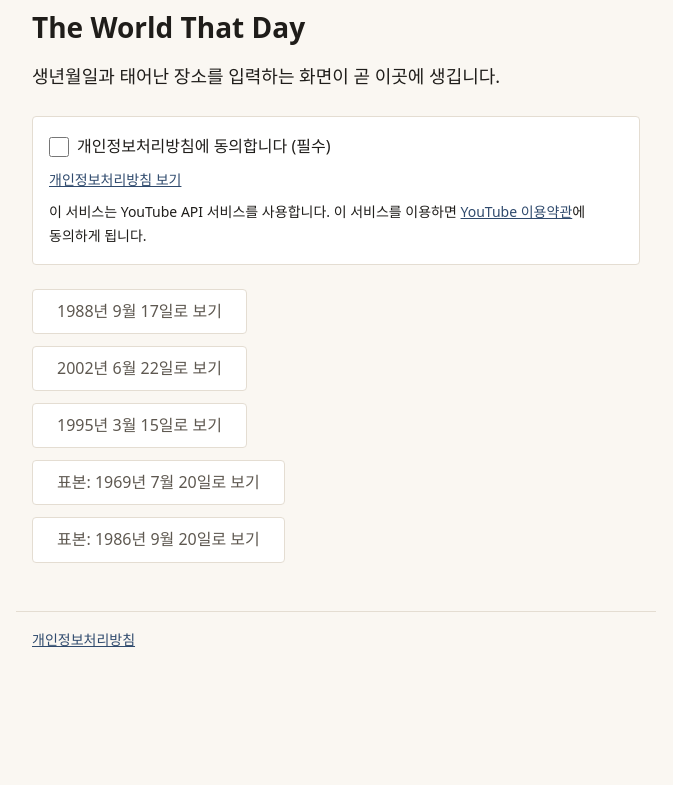
Test: demo 2002-06-22 (데모 표 2행) › today’s server shape: sentence and source line, no img
This screenshot has width=673, height=785.
Click the checkbox labelled "개인정보처리방침에 동의합니다 (필수)" at (59, 147), box [49,137,69,157]
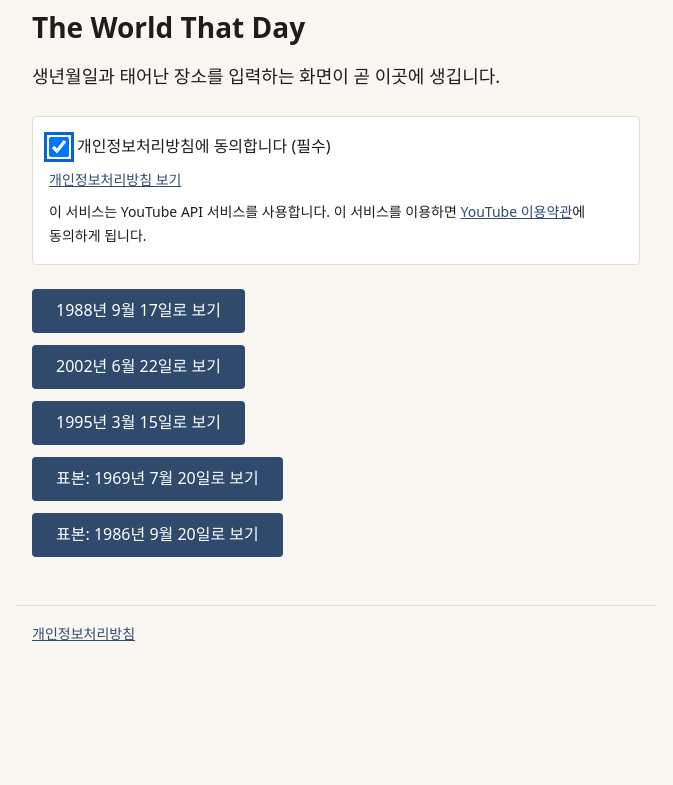
Click the button "2002년 6월 22일로 보기" at (138, 367), box [32,345,245,389]
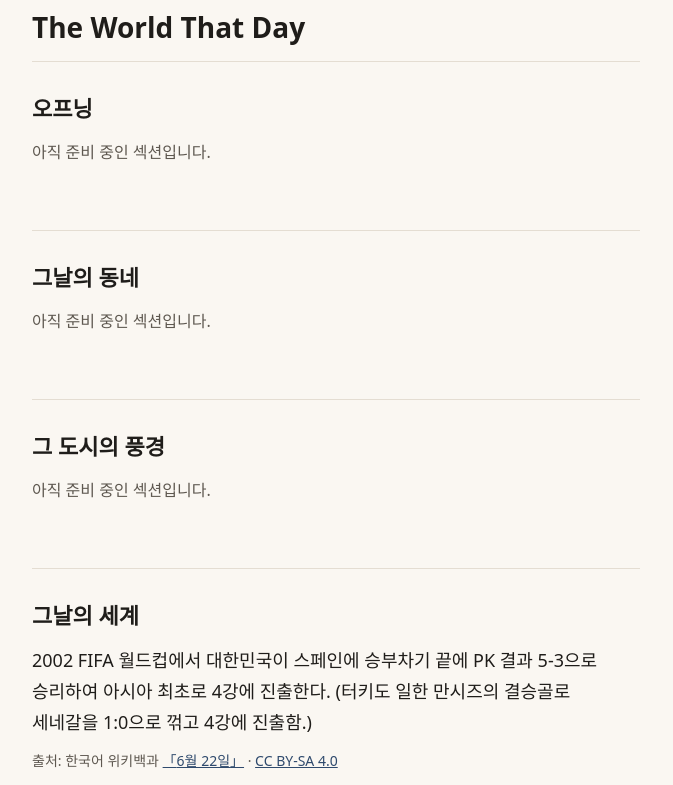
Expected: the text "2002 FIFA 월드컵에서 대한민국이 스페인에 승부차기 끝에 PK 결과 5-3으로 승리하여 아시아 최초로 4강에 진출한다. (터키도 일한 만시즈의 결승골로 세네갈을 1:0으로 꺾고 4강에 진출함.)" is shown, [32,648,597,734]
Expected: the number of list items is 1, [32,645,640,773]
